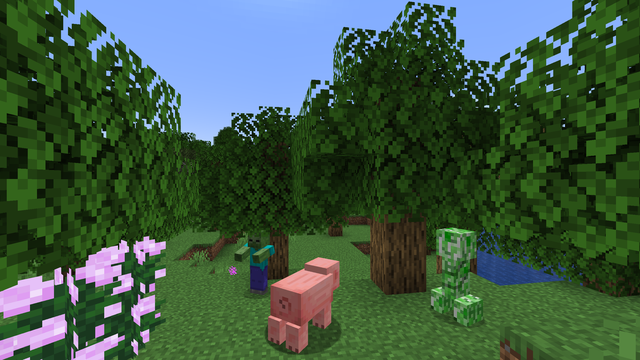cochons: (277, 267, 334, 347)
creepers: (432, 224, 480, 323)
zombies: (248, 244, 268, 296)
